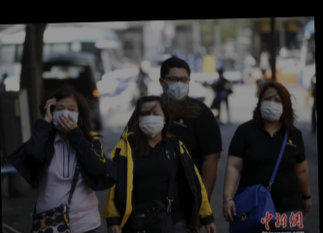with_mask: (50, 101, 80, 131), (138, 107, 164, 138), (258, 92, 285, 121), (163, 72, 189, 101)
